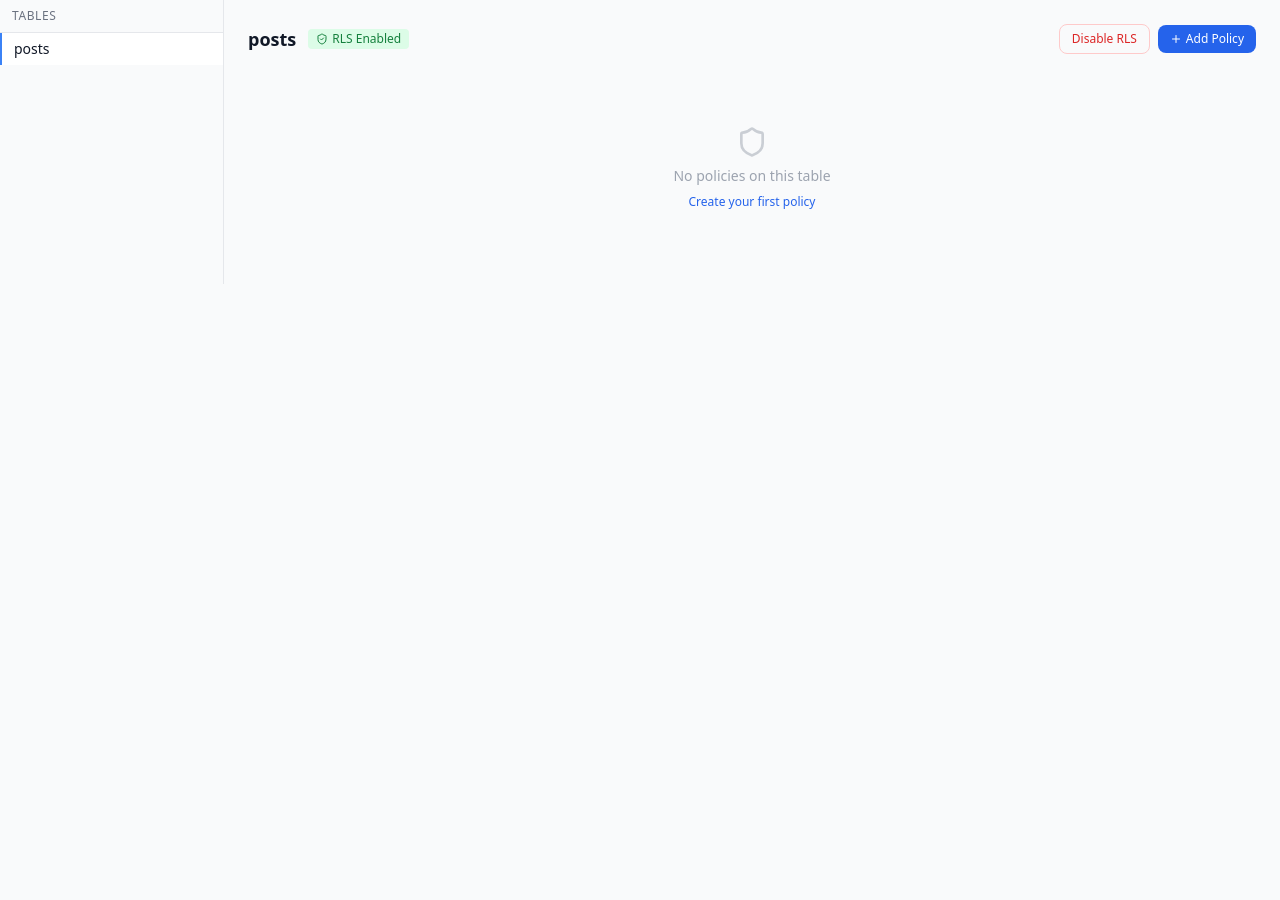
Test: RlsPolicies › create policy rejection shows toast, keeps modal open, and resets submitting state
Click the button "Add Policy" at (1207, 39), box [1158,25,1256,53]
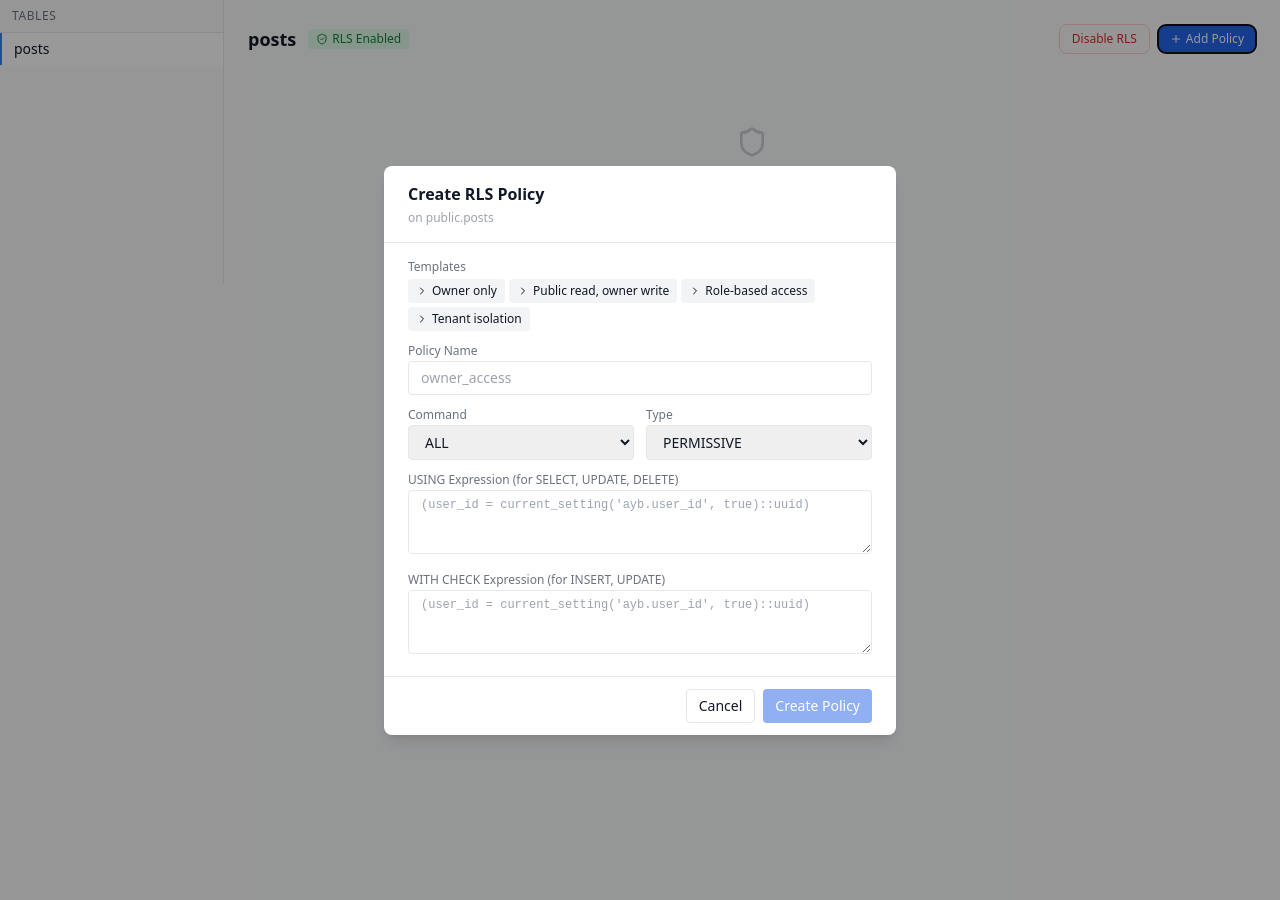
Type "test_policy" into the field named "Policy name" at (640, 378), box [408,360,872,394]
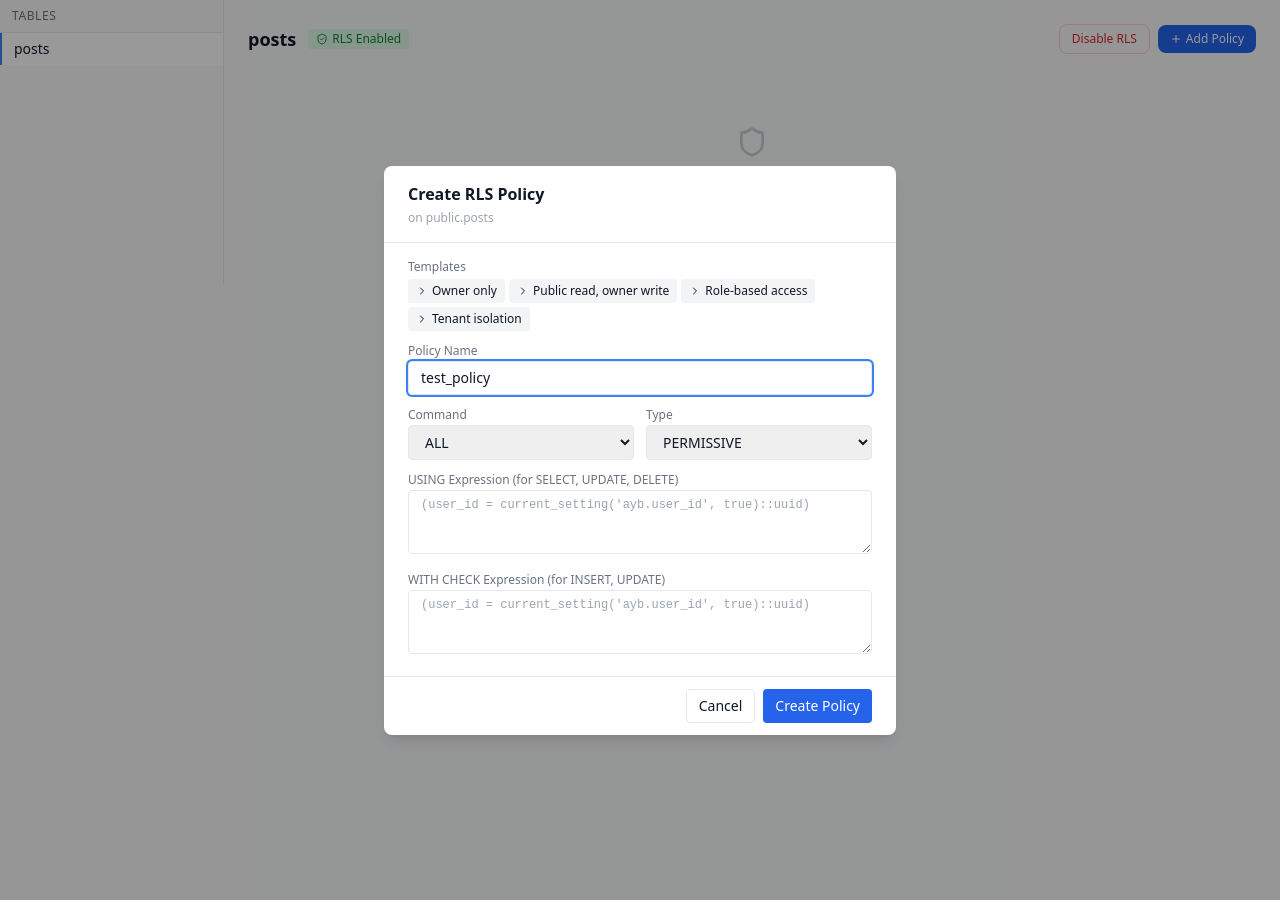
Click the button "Create Policy" at (818, 706), box [763,688,872,722]
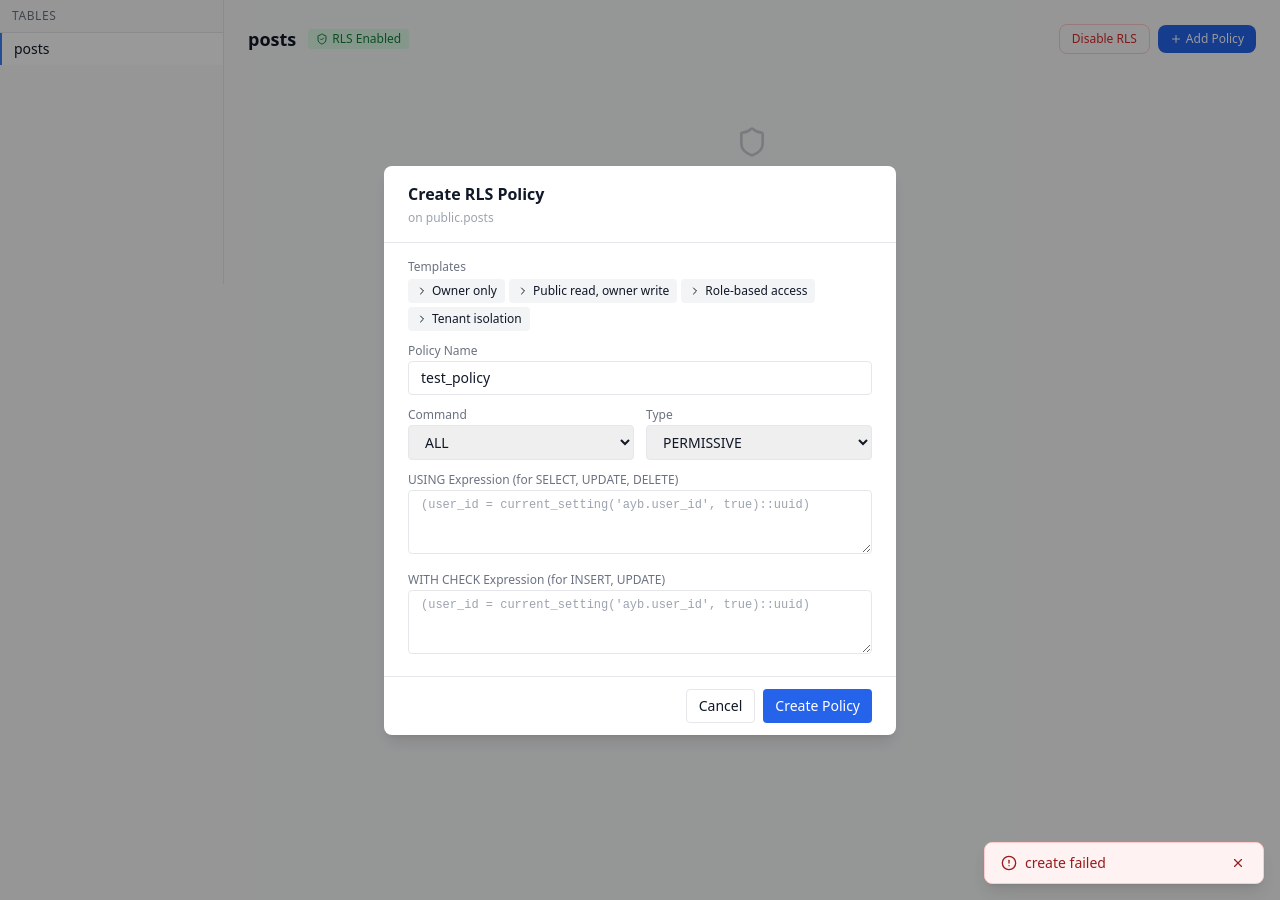
Now the heading "Create RLS Policy" is shown, box [408,182,544,204]
Now the button "Create Policy" is enabled, box [763,688,872,722]
Now the text "create failed" is shown, box [1025,853,1106,872]
